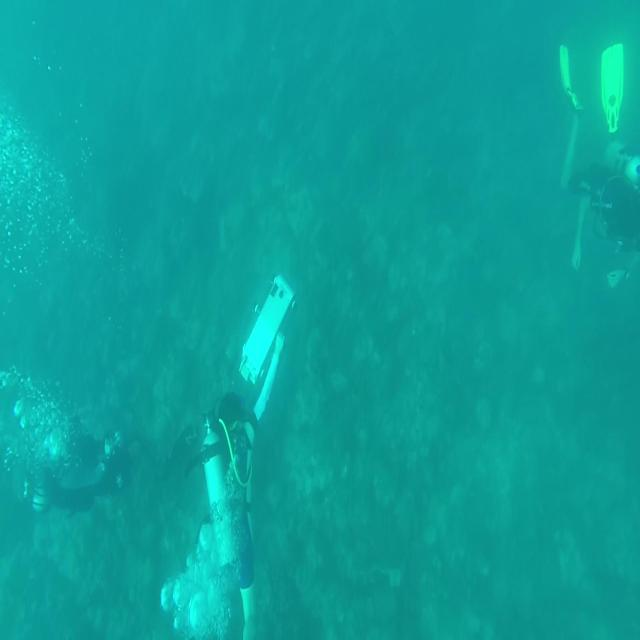human: (160, 324, 288, 638), (557, 40, 639, 289)
